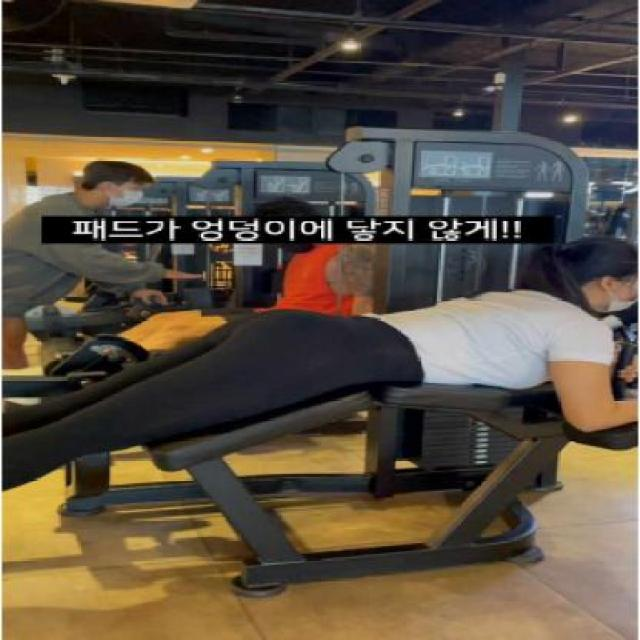reg curl machine: (4, 121, 640, 601)
